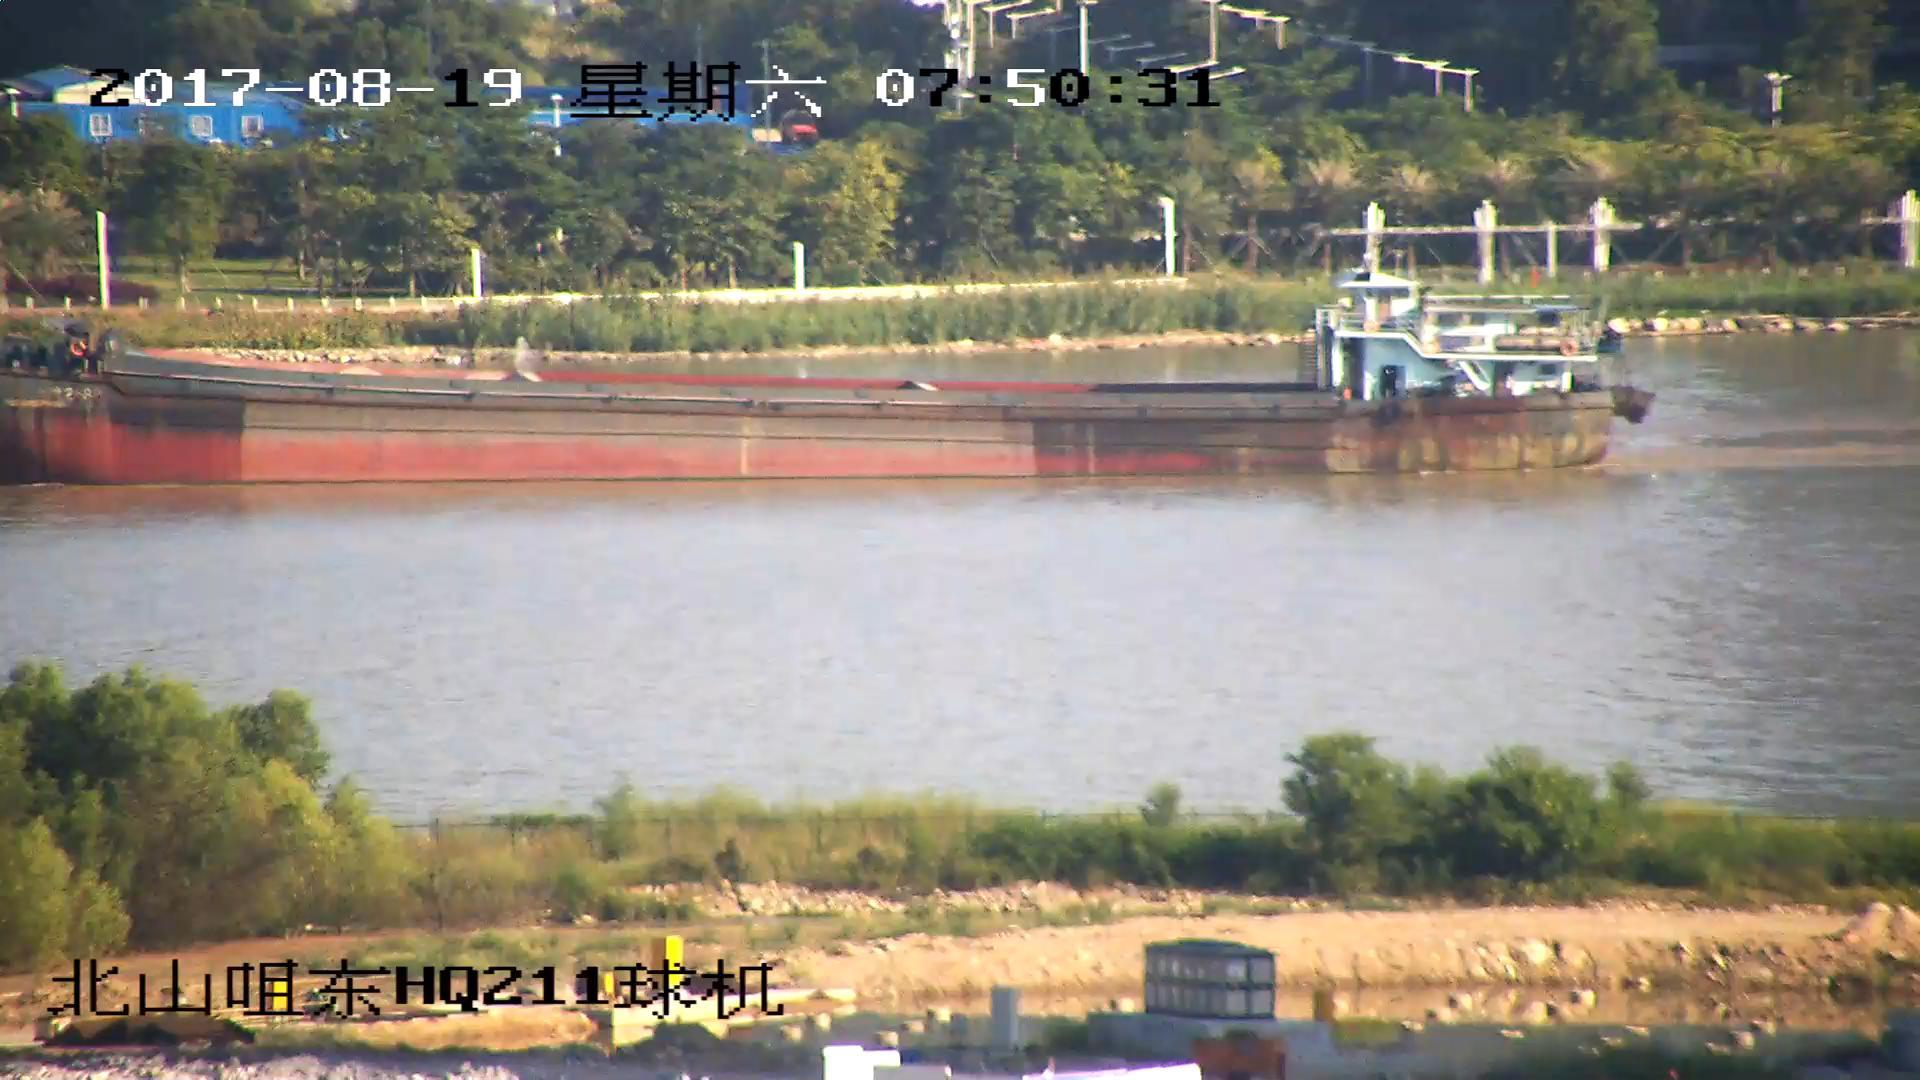Ship: (3, 255, 1659, 485)
